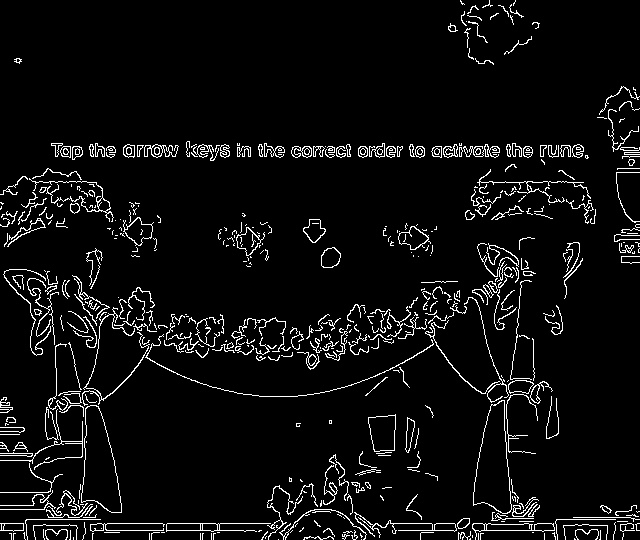down: (297, 212, 332, 251)
left: (119, 213, 161, 248)
right: (226, 223, 269, 261), (394, 220, 433, 255)
